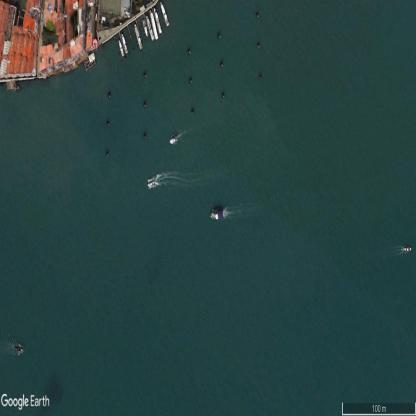ship: (149, 9, 159, 41), (153, 6, 163, 36), (159, 1, 170, 28), (145, 14, 155, 42), (134, 24, 143, 51), (121, 34, 129, 55), (118, 39, 125, 58), (142, 19, 149, 38), (210, 211, 223, 221), (147, 179, 155, 189), (170, 136, 177, 147), (403, 246, 412, 253), (15, 347, 23, 353)
